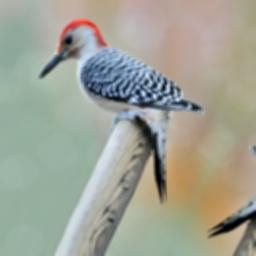Woodpecker: (16, 0, 224, 221)
